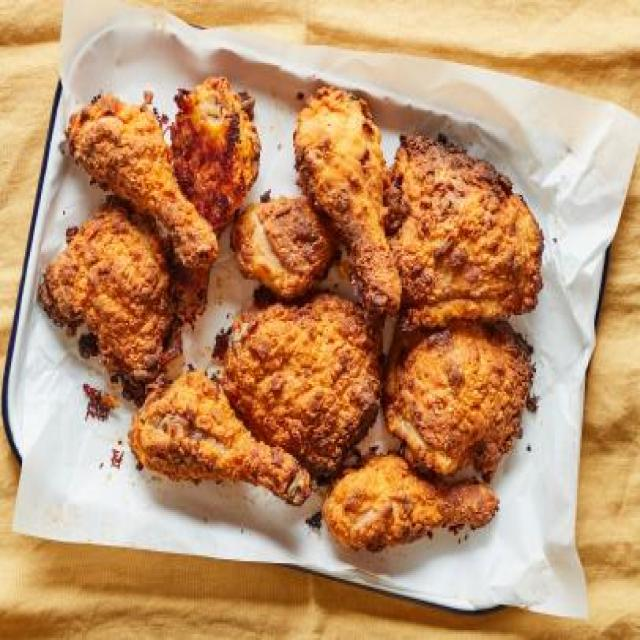Frango: (36, 63, 549, 551)
